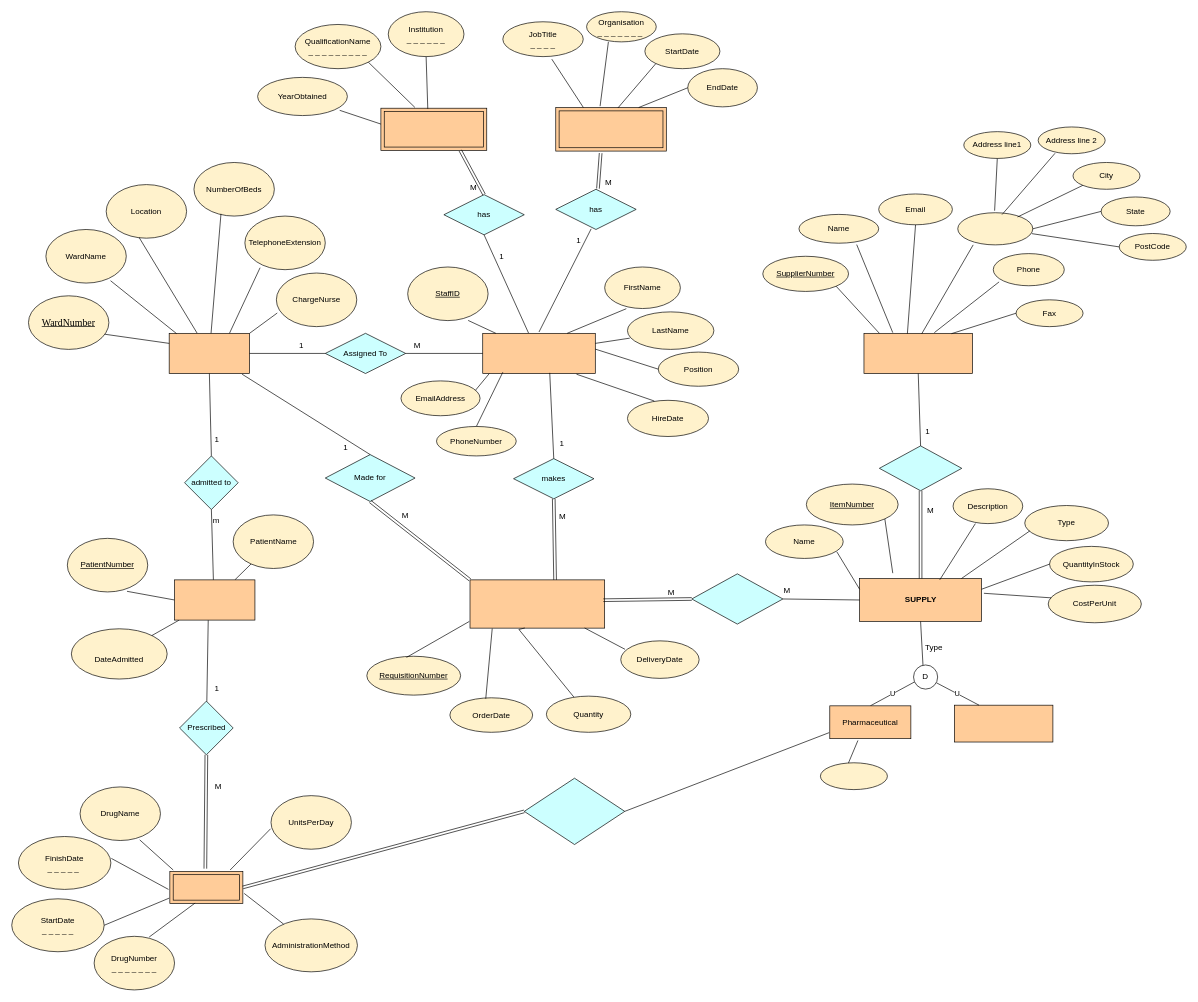
This 1198x1002 diagram has some shape labels left out. The shapes that lost their labels are listed below. From the top down, each one's box as (x1, y1, x2, y2) in pixels, then its label:
(380, 108, 487, 150): StaffQualification
(555, 107, 666, 151): StaffExperience
(957, 212, 1033, 245): Address
(169, 333, 250, 374): WARD
(482, 333, 595, 374): STAFF
(863, 333, 973, 374): SUPPLIER
(879, 445, 962, 491): provides
(174, 579, 255, 620): PATIENT
(469, 579, 605, 628): REQUISITION
(691, 573, 783, 624): Requests
(954, 705, 1053, 742): Surgical / Non-Surgical
(820, 762, 887, 790): Dosage
(524, 778, 625, 845): associated with
(169, 871, 243, 903): MEDICATION
